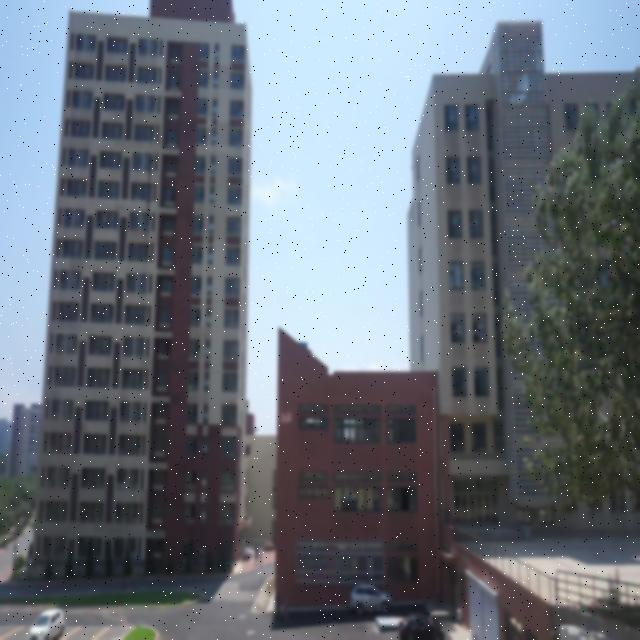UAV: (280, 412, 292, 423)
